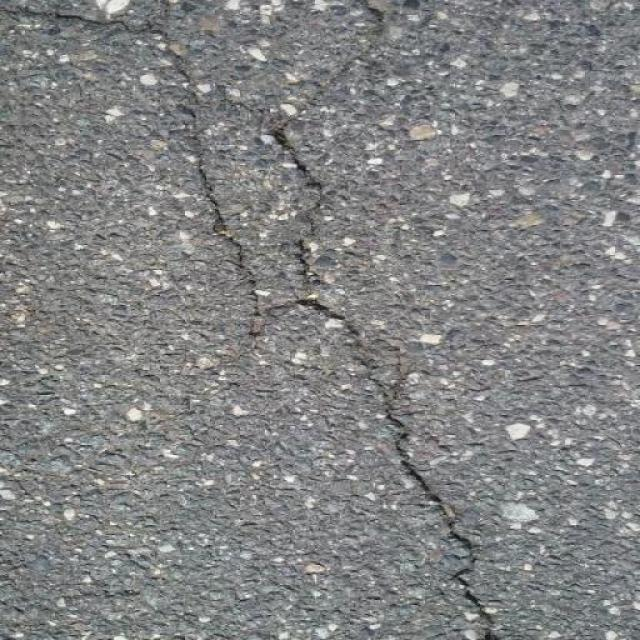Crack: (288, 290, 512, 640)
